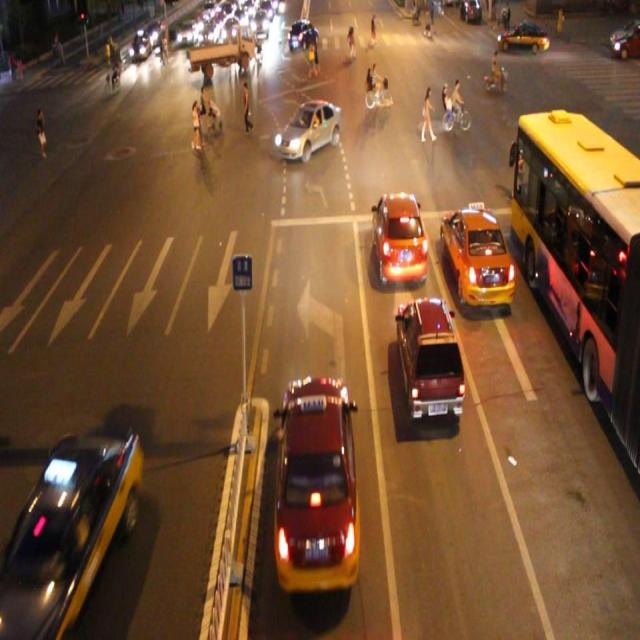bus: (189, 24, 256, 70)
car: (1, 425, 141, 640), (272, 375, 360, 589), (395, 297, 466, 422), (440, 204, 518, 308), (373, 192, 429, 288), (274, 97, 341, 161)
van: (511, 116, 640, 468)
